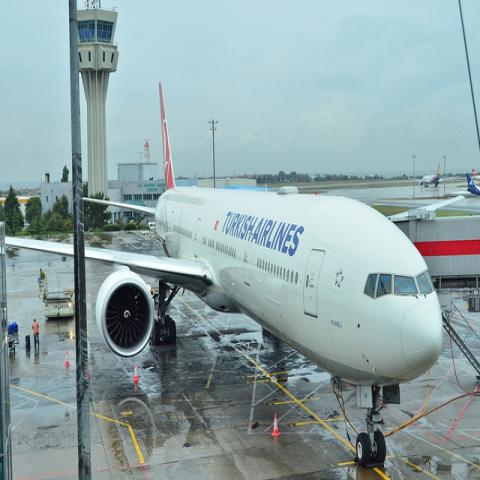truck: (45, 292, 75, 317)
